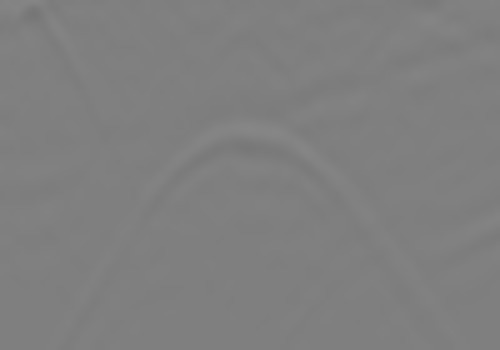hyperbola: (86, 120, 401, 321)
